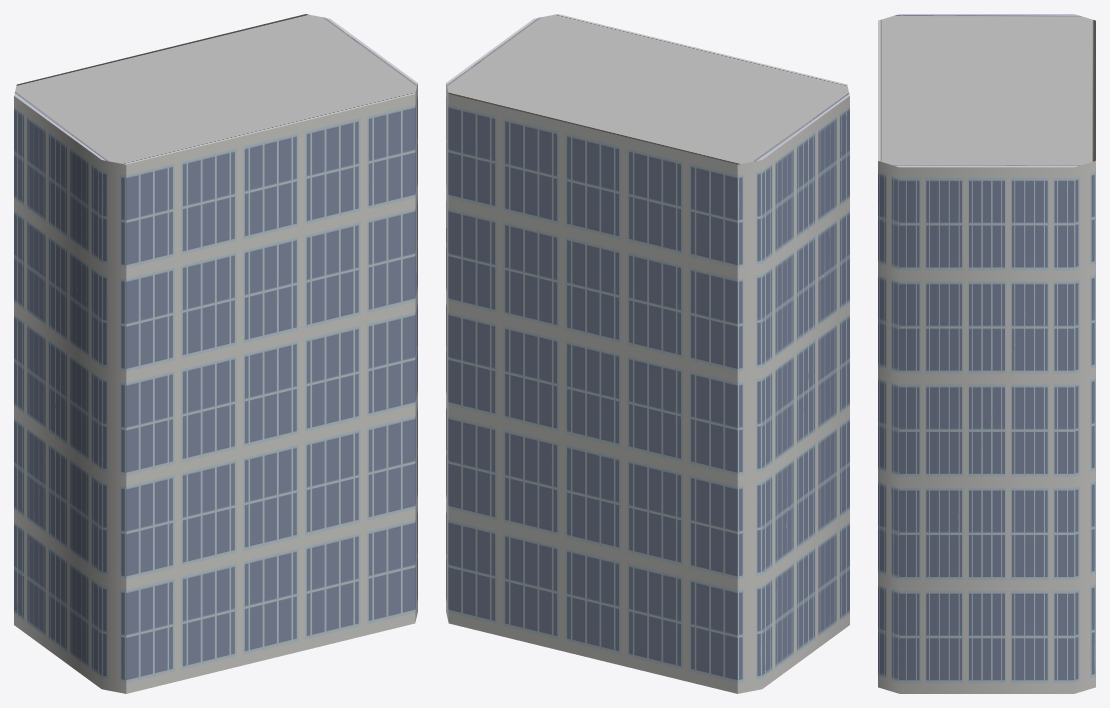
The model's file is testui14.gltf.
3 renders of one model, left to right at view 1: azimuth 30°, elevation 25°; view 2: azimuth 150°, elevation 25°; view 3: azimuth 270°, elevation 25°, orthographic.
Visible parts, largest first — view 1: 立方体-正面, 立方体-侧面 (×3), 立方体-材质; view 2: 立方体-正面, 立方体-侧面 (×3), 立方体-材质; view 3: 立方体-侧面 (×3), 立方体-材质.
Boxes of the visible parts, <box> form: 立方体-正面: <box>126,94,415,693</box>; 立方体-侧面 (×3): <box>14,83,417,693</box>; 立方体-材质: <box>14,14,417,164</box>; 立方体-正面: <box>448,94,737,693</box>; 立方体-侧面 (×3): <box>446,83,849,693</box>; 立方体-材质: <box>446,14,849,164</box>; 立方体-侧面 (×3): <box>878,161,1095,693</box>; 立方体-材质: <box>878,14,1095,167</box>.
Size of the model in its own units: 500 by 800 by 300.
Materials: 3 (3 with a texture image).
